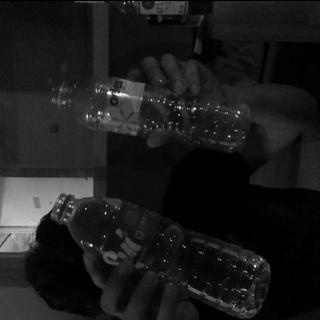plastic_bottles: (48, 190, 268, 316), (46, 78, 247, 160)
